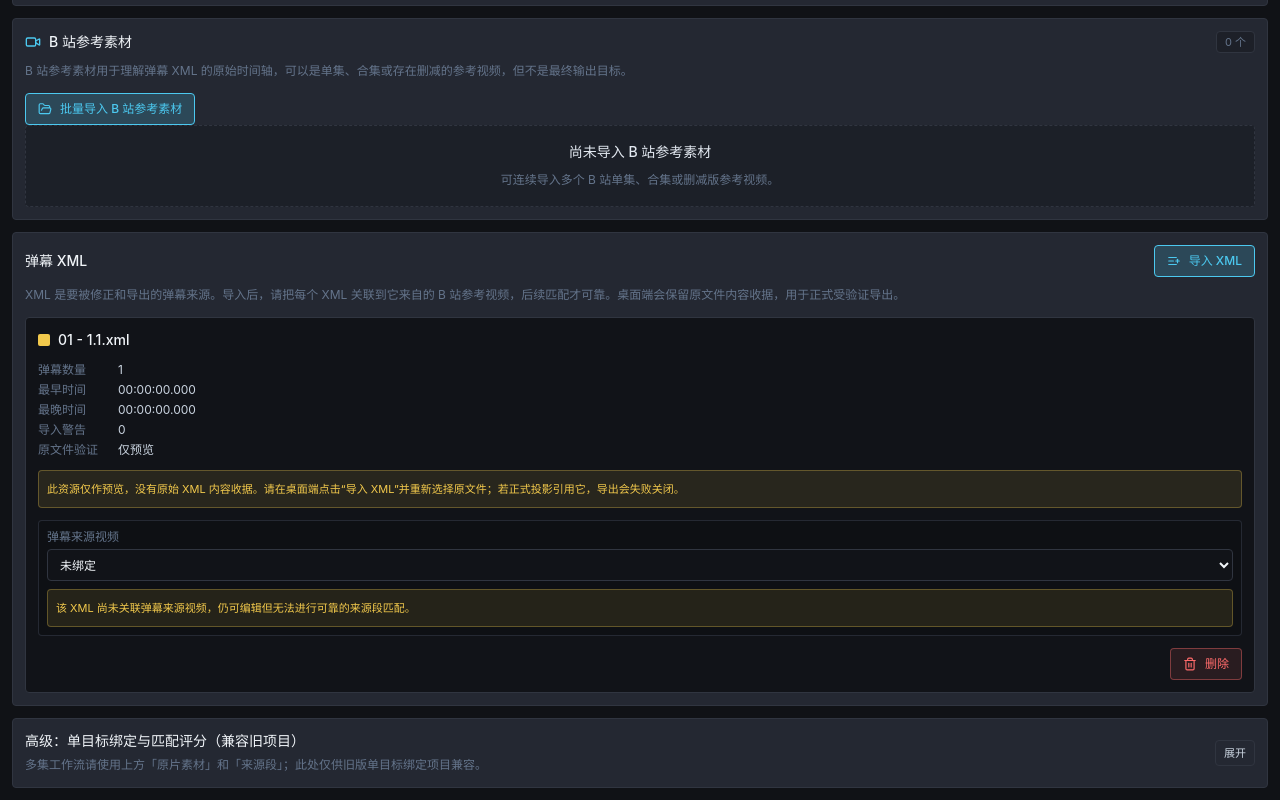
Scenario: 资源面板 › 媒体页可以选择本地路径作为 mpv 目标原片
The image size is (1280, 800).
(page scrolled)
Step 1. Click the button "高级：单目标绑定与匹配评分" → (165, 740), box [25,731,1255,775]
(page scrolled)
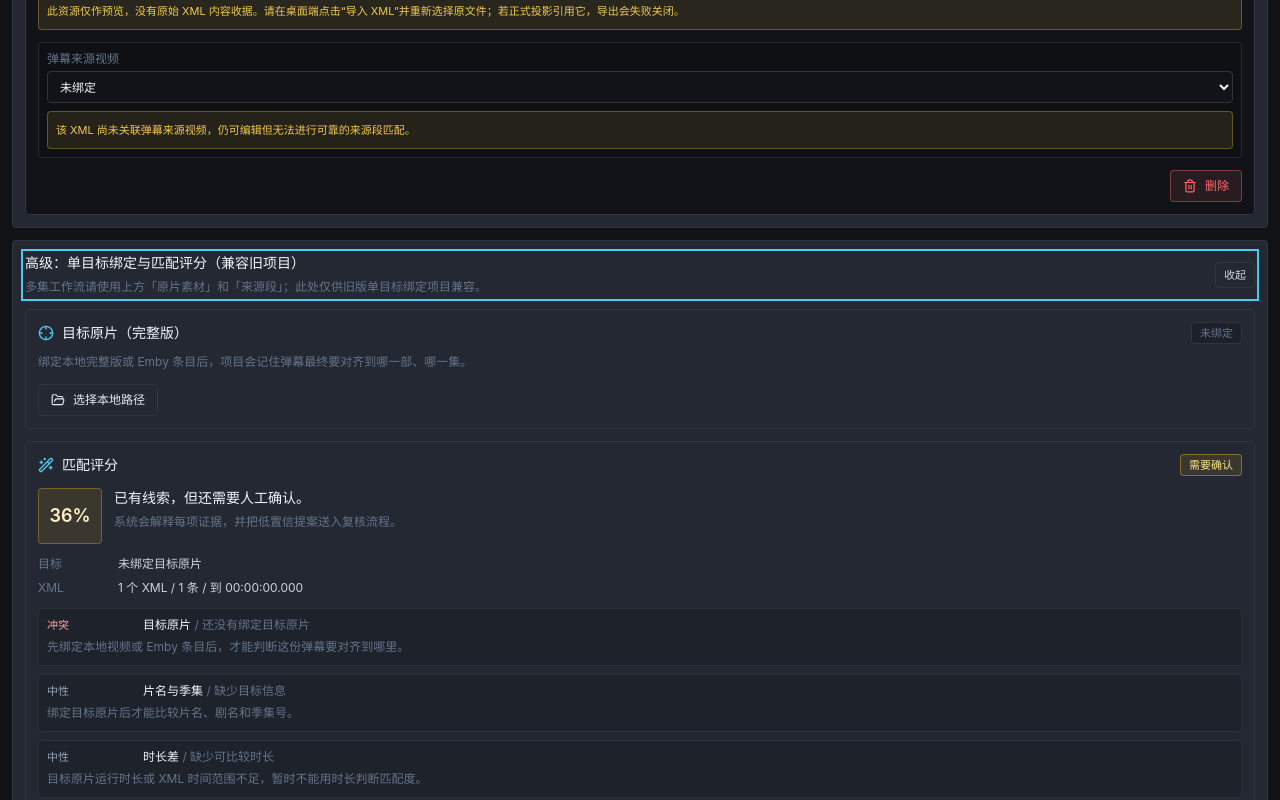
Step 2. Click the button "选择本地路径" → (98, 400), box [38,384,158,416]
(page scrolled)
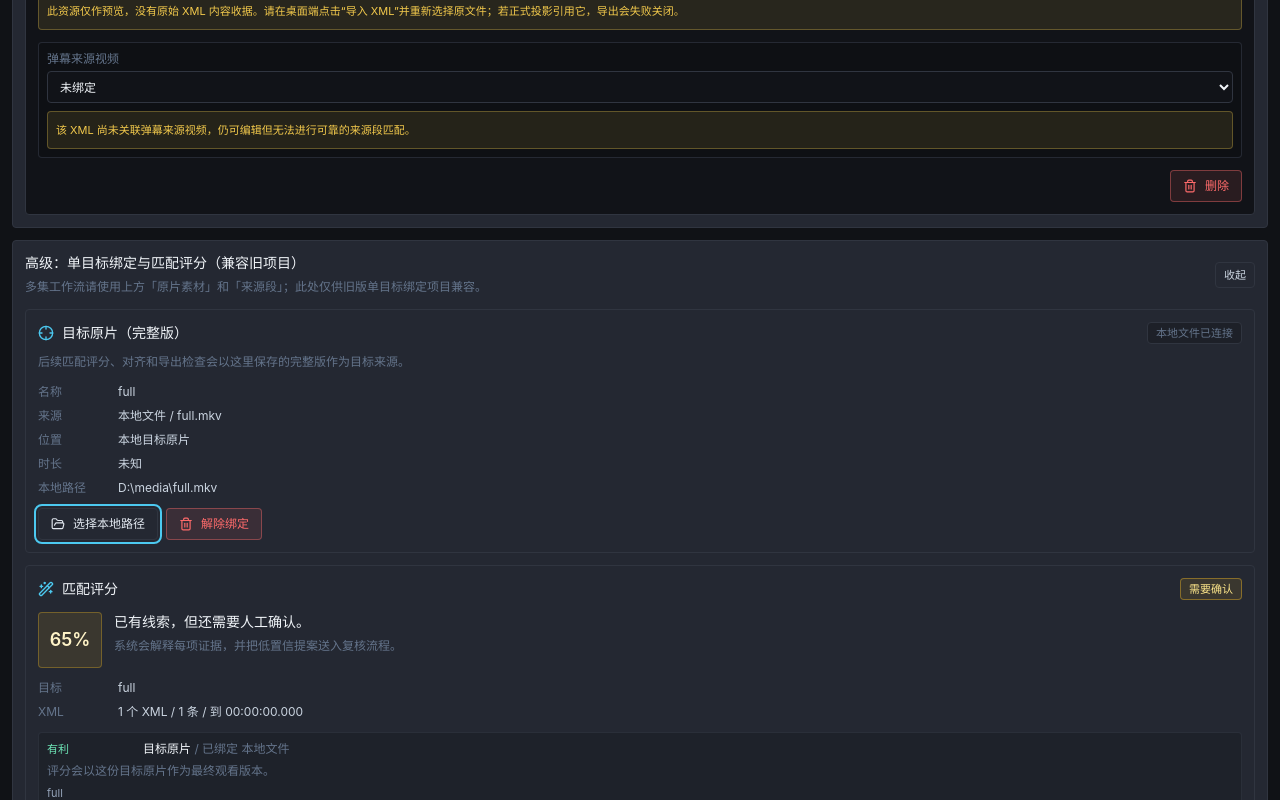
Now the text "本地文件已连接" is shown, box [1147,322,1242,344]
Now the text "D:\\media\\full.mkv" is shown, box [118,480,217,495]
